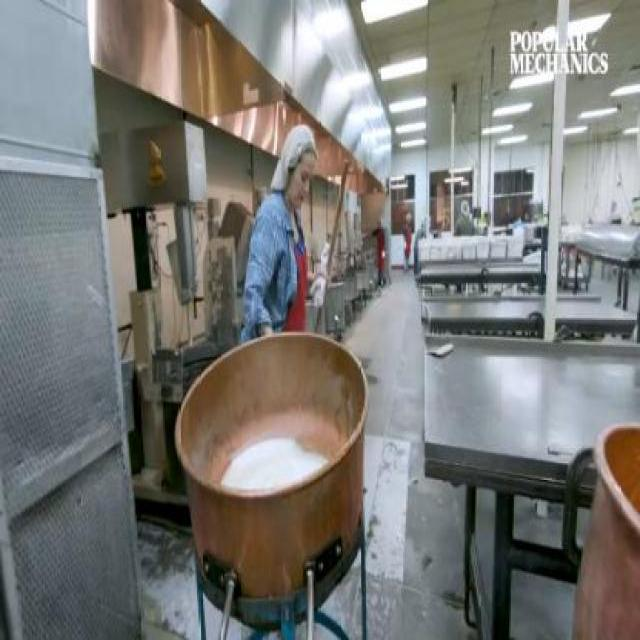hairnet: (269, 126, 318, 172)
